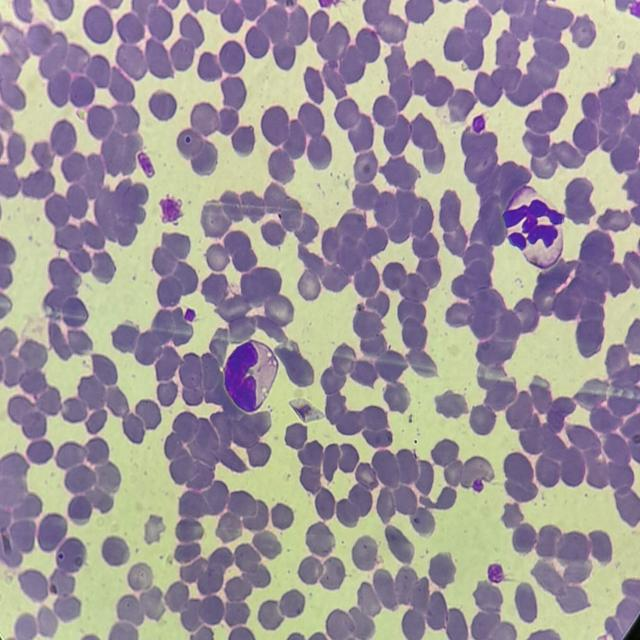Neutrofilo: (503, 185, 566, 268)
